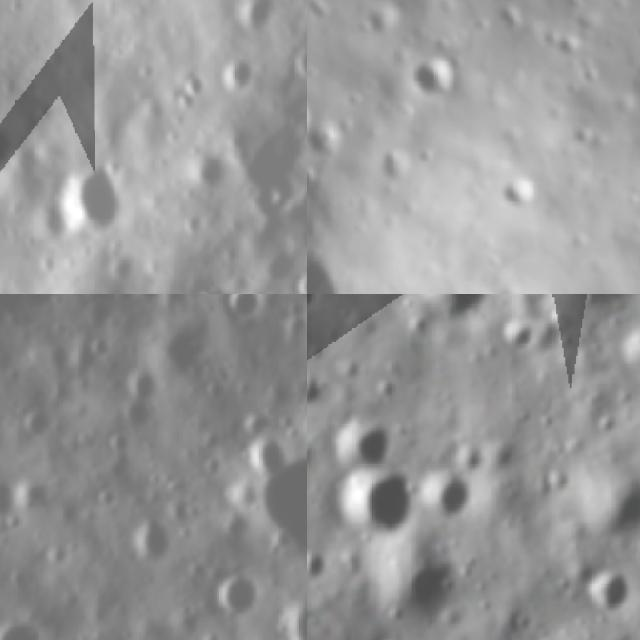crater: (209, 368, 307, 592), (47, 148, 145, 256), (332, 464, 426, 548), (378, 546, 464, 627), (143, 308, 228, 388), (117, 501, 197, 580), (576, 454, 640, 548), (203, 560, 283, 629), (323, 416, 400, 479), (236, 426, 302, 487), (178, 144, 238, 209), (418, 463, 478, 527), (403, 294, 497, 331), (576, 564, 638, 618), (213, 46, 262, 99), (0, 604, 70, 640), (404, 58, 461, 100), (16, 398, 62, 447), (233, 0, 289, 39), (501, 172, 546, 220), (496, 313, 541, 360), (176, 263, 244, 294), (218, 294, 272, 330), (378, 144, 415, 187), (615, 325, 640, 385), (366, 6, 402, 43), (307, 361, 331, 415), (0, 476, 23, 530), (286, 35, 307, 91), (307, 545, 332, 591), (286, 261, 307, 294), (307, 162, 319, 198)
